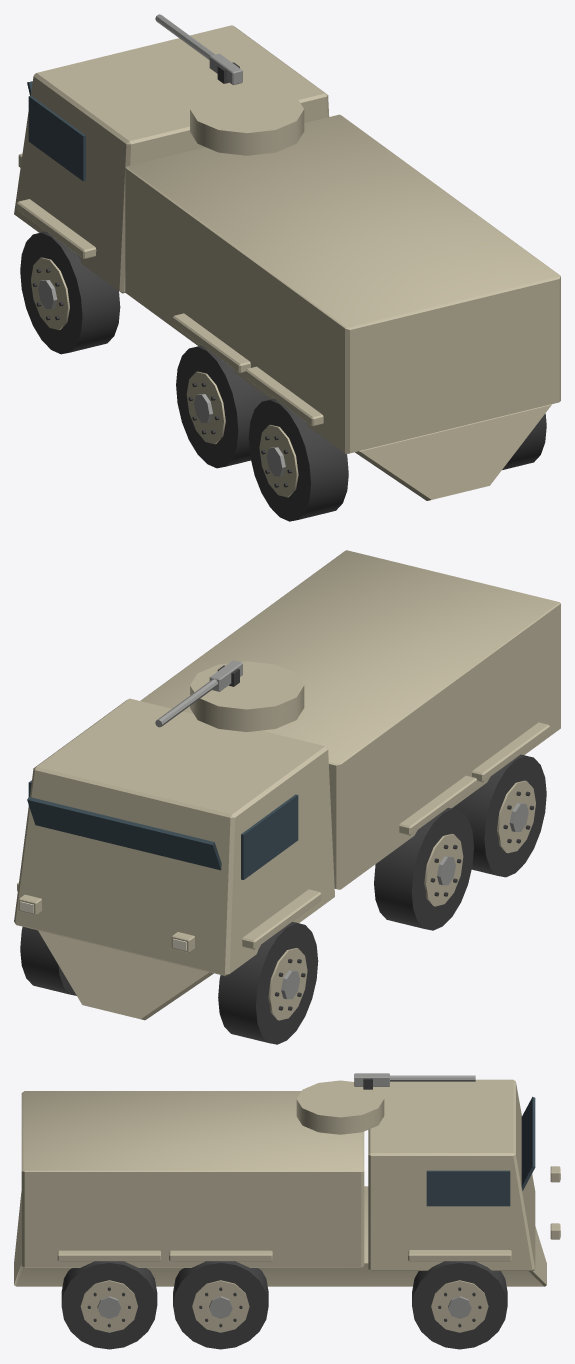
File: rus_mrap_kamaz.glb
The picture shows the model from 3 angles, top to bottom: view 1: azimuth 30°, elevation 25°; view 2: azimuth 150°, elevation 25°; view 3: azimuth 270°, elevation 25°; orthographic projection. The views are drawn at different scales.
Visible parts, largest first — view 1: body, wheel_4, wheel_0, wheel_2, turret, barrel, wheel_5; view 2: body, wheel_2, wheel_0, wheel_4, turret, wheel_1, barrel; view 3: body, wheel_5, wheel_3, wheel_1, turret, barrel.
Boxes of the visible parts, left/top/right/bottom form: body: left=14, top=25, right=560, bottom=500; wheel_4: left=248, top=398, right=348, bottom=521; wheel_0: left=20, top=231, right=120, bottom=354; wheel_2: left=176, top=345, right=270, bottom=468; turret: left=190, top=85, right=304, bottom=155; barrel: left=155, top=14, right=242, bottom=84; wheel_5: left=502, top=413, right=546, bottom=469; body: left=14, top=550, right=560, bottom=1020; wheel_2: left=374, top=808, right=473, bottom=930; wheel_0: left=218, top=922, right=318, bottom=1044; wheel_4: left=452, top=754, right=546, bottom=877; turret: left=190, top=661, right=304, bottom=731; wheel_1: left=20, top=927, right=76, bottom=995; barrel: left=155, top=660, right=242, bottom=727; body: left=14, top=1079, right=560, bottom=1286; wheel_5: left=61, top=1261, right=157, bottom=1349; wheel_3: left=173, top=1261, right=268, bottom=1349; wheel_1: left=412, top=1261, right=507, bottom=1349; turret: left=296, top=1080, right=384, bottom=1134; barrel: left=354, top=1073, right=475, bottom=1089.
Bounding box in the file's own units: 2.74 × 3.19 × 6.87.
